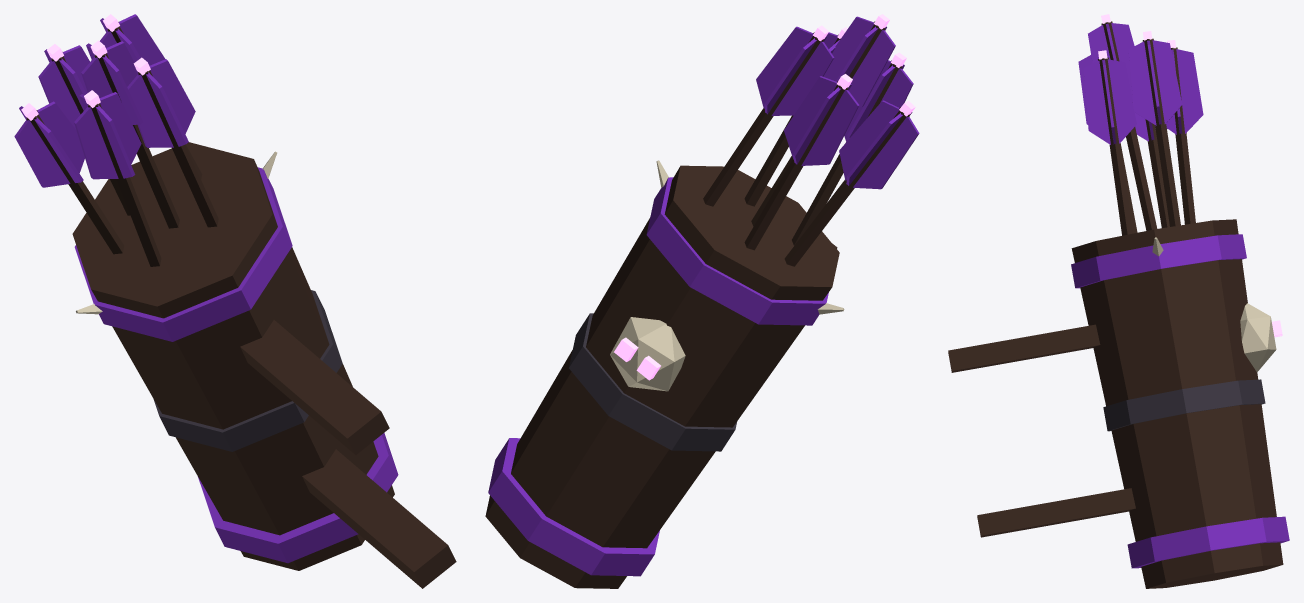
The model's file is Boss_Archer_Quiver.fbx.
3 renders of one model, left to right at view 1: azimuth 30°, elevation 25°; view 2: azimuth 150°, elevation 25°; view 3: azimuth 270°, elevation 25°, orthographic. The views are drawn at different scales.
Parts seen in each view (by area): view 1: Boss_Archer_Quiver; view 2: Boss_Archer_Quiver; view 3: Boss_Archer_Quiver.
Part boxes in pixels (bbox=[...]): Boss_Archer_Quiver: bbox=[14, 14, 456, 588]; Boss_Archer_Quiver: bbox=[485, 14, 919, 588]; Boss_Archer_Quiver: bbox=[948, 14, 1289, 588].
Bounding box in the file's own units: 0.5351 × 0.7673 × 0.4896.
